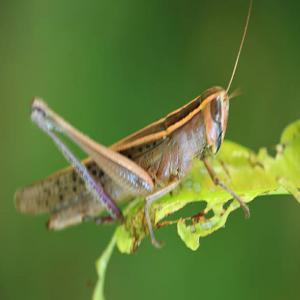locust: (15, 38, 246, 243)
